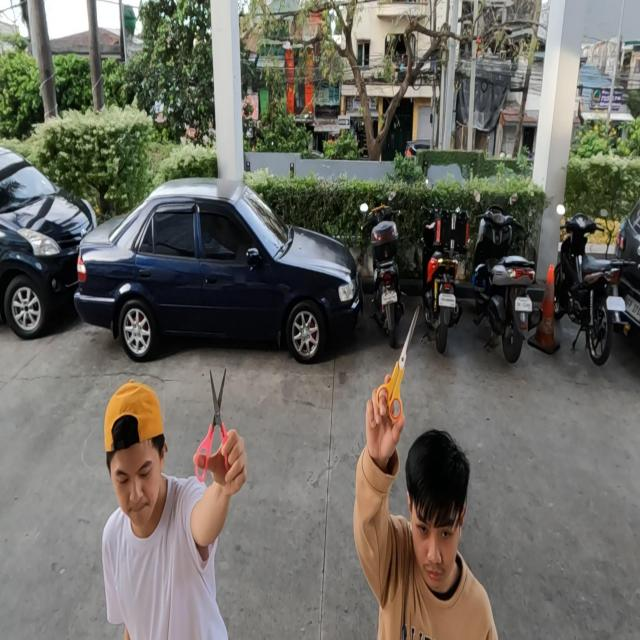scissor: (376, 304, 421, 424), (194, 367, 238, 482)
